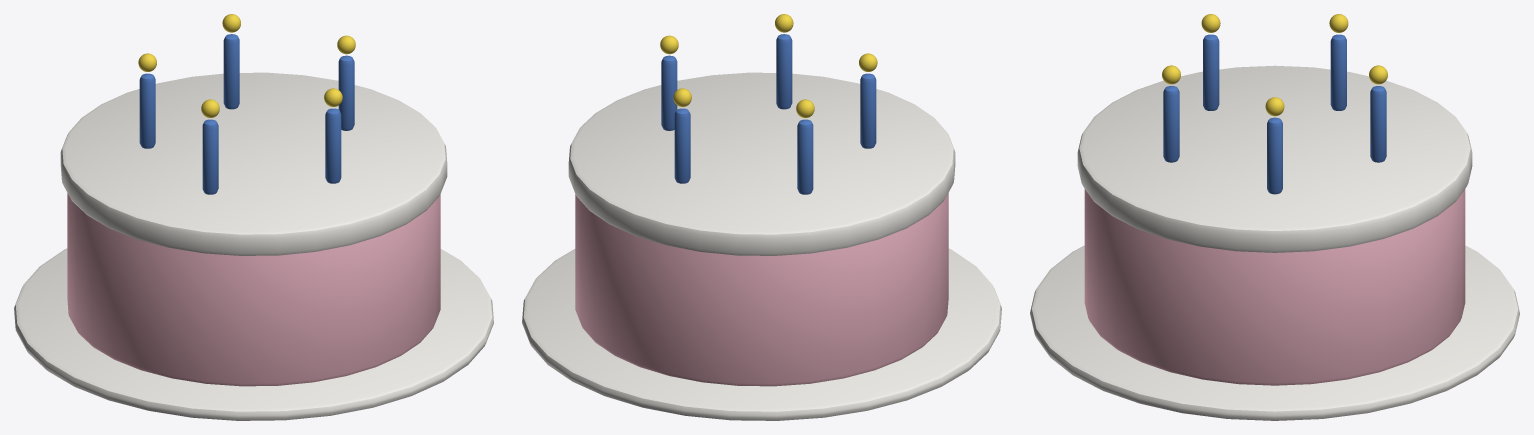
Rendered from cake.glb.
3 views of the same model, side by side, from view 1: azimuth 30°, elevation 25°; view 2: azimuth 150°, elevation 25°; view 3: azimuth 270°, elevation 25° (orthographic).
Visible parts, largest first — view 1: icing, cake, plate, candle1, candle3, candle4, candle2, candle0; view 2: icing, cake, plate, candle4, candle1, candle2, candle3, candle0; view 3: icing, cake, plate, candle1, candle4, candle2, candle3, candle0.
Part boxes in pixels (x1,y1,x2,y2): icing: [60, 72, 447, 255]; cake: [67, 193, 440, 386]; plate: [14, 248, 493, 420]; candle1: [223, 34, 239, 109]; candle3: [202, 119, 218, 194]; candle4: [325, 108, 341, 183]; candle2: [139, 73, 155, 148]; candle0: [338, 55, 354, 130]; icing: [568, 72, 955, 255]; cake: [575, 193, 948, 386]; plate: [522, 248, 1001, 420]; candle4: [776, 34, 792, 109]; candle1: [674, 108, 690, 183]; candle2: [797, 119, 813, 194]; candle3: [860, 73, 876, 148]; candle0: [661, 55, 677, 130]; icing: [1077, 65, 1472, 252]; cake: [1084, 189, 1465, 385]; plate: [1030, 245, 1519, 420]; candle1: [1370, 86, 1386, 162]; candle4: [1163, 86, 1179, 162]; candle2: [1330, 34, 1346, 110]; candle3: [1203, 34, 1219, 110]; candle0: [1267, 117, 1282, 194].
Size of the model in its own units: 0.36 by 0.217 by 0.36.
